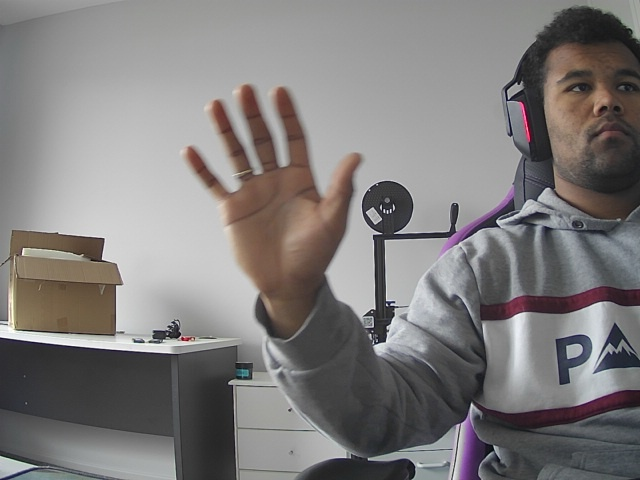Hello: (171, 54, 368, 314)
